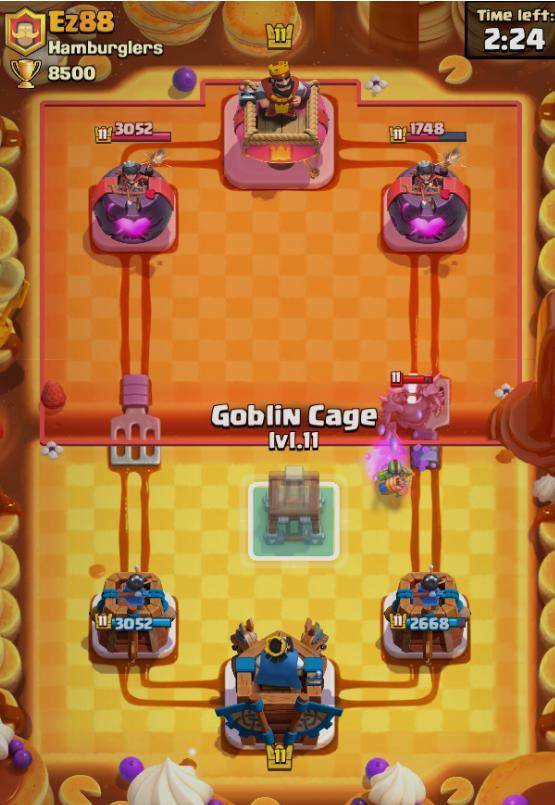EBigPekka: (385, 372, 449, 420)
EKingTower: (223, 62, 334, 190)
EnemyPrincessTower: (90, 149, 176, 253), (382, 160, 469, 254)
OGoblinCage: (267, 469, 321, 545)
OSpearGoblin: (376, 459, 412, 497)
OwnKingTower: (216, 619, 341, 750)
OwnPrincessTower: (382, 569, 469, 663), (89, 570, 176, 661)
